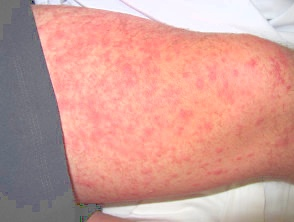SJS-TEN: (25, 0, 294, 211)
